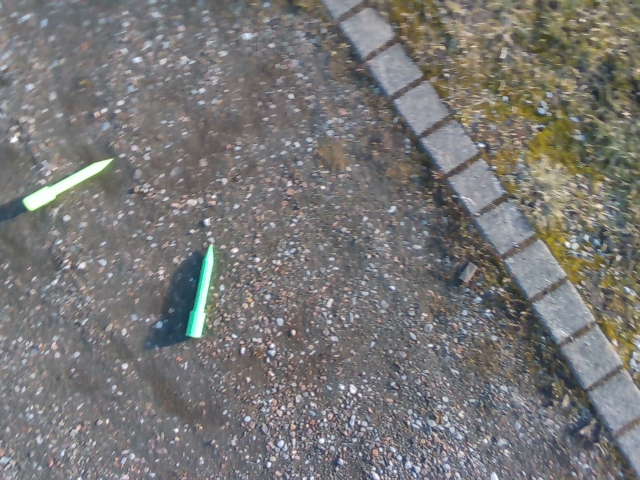Probe: (20, 150, 121, 216), (182, 235, 220, 345)
